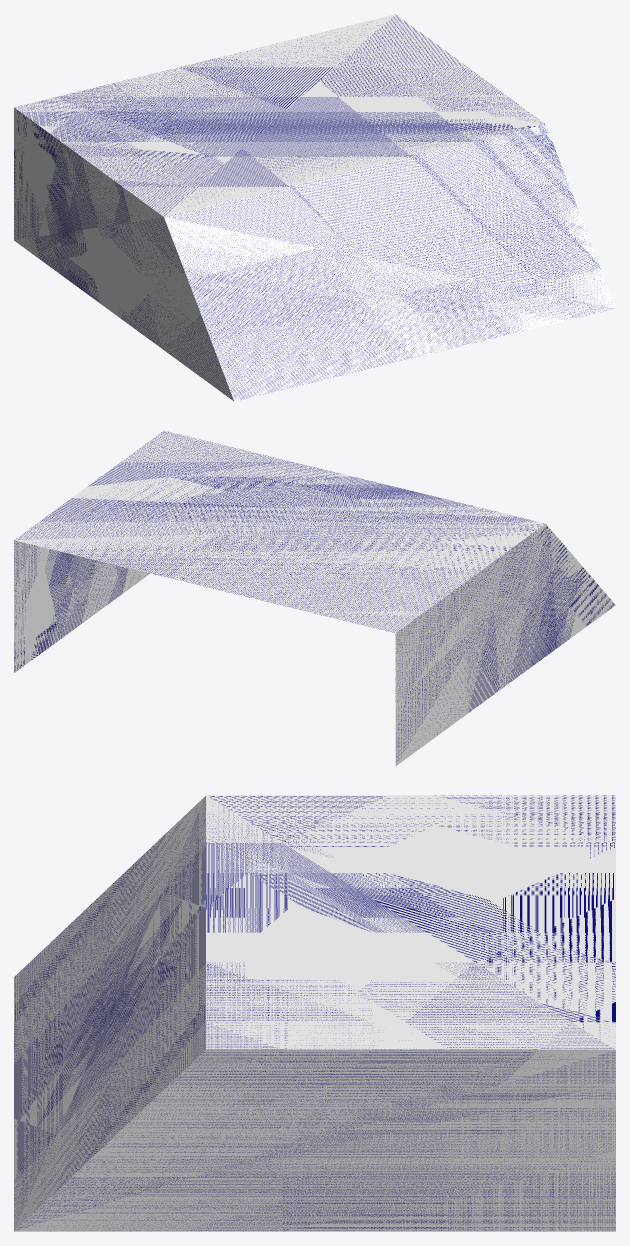
Rendered from original-28.obj.
3 views of the same model, one above another, from view 1: azimuth 30°, elevation 25°; view 2: azimuth 150°, elevation 25°; view 3: azimuth 270°, elevation 25° (orthographic). The views are drawn at different scales.
Parts seen in each view (by area): view 1: mesh1/mesh1-geometry/material_4#mesh1-geometry; view 2: mesh1/mesh1-geometry/material_4#mesh1-geometry; view 3: mesh1/mesh1-geometry/material_4#mesh1-geometry.
Boxes of the visible parts, x1=… form: mesh1/mesh1-geometry/material_4#mesh1-geometry: x1=14, y1=14, x2=615, y2=401; mesh1/mesh1-geometry/material_4#mesh1-geometry: x1=14, y1=430, x2=615, y2=765; mesh1/mesh1-geometry/material_4#mesh1-geometry: x1=14, y1=795, x2=615, y2=1231.
Size of the model in its own units: 0.4838 by 0.1613 by 0.4838.
